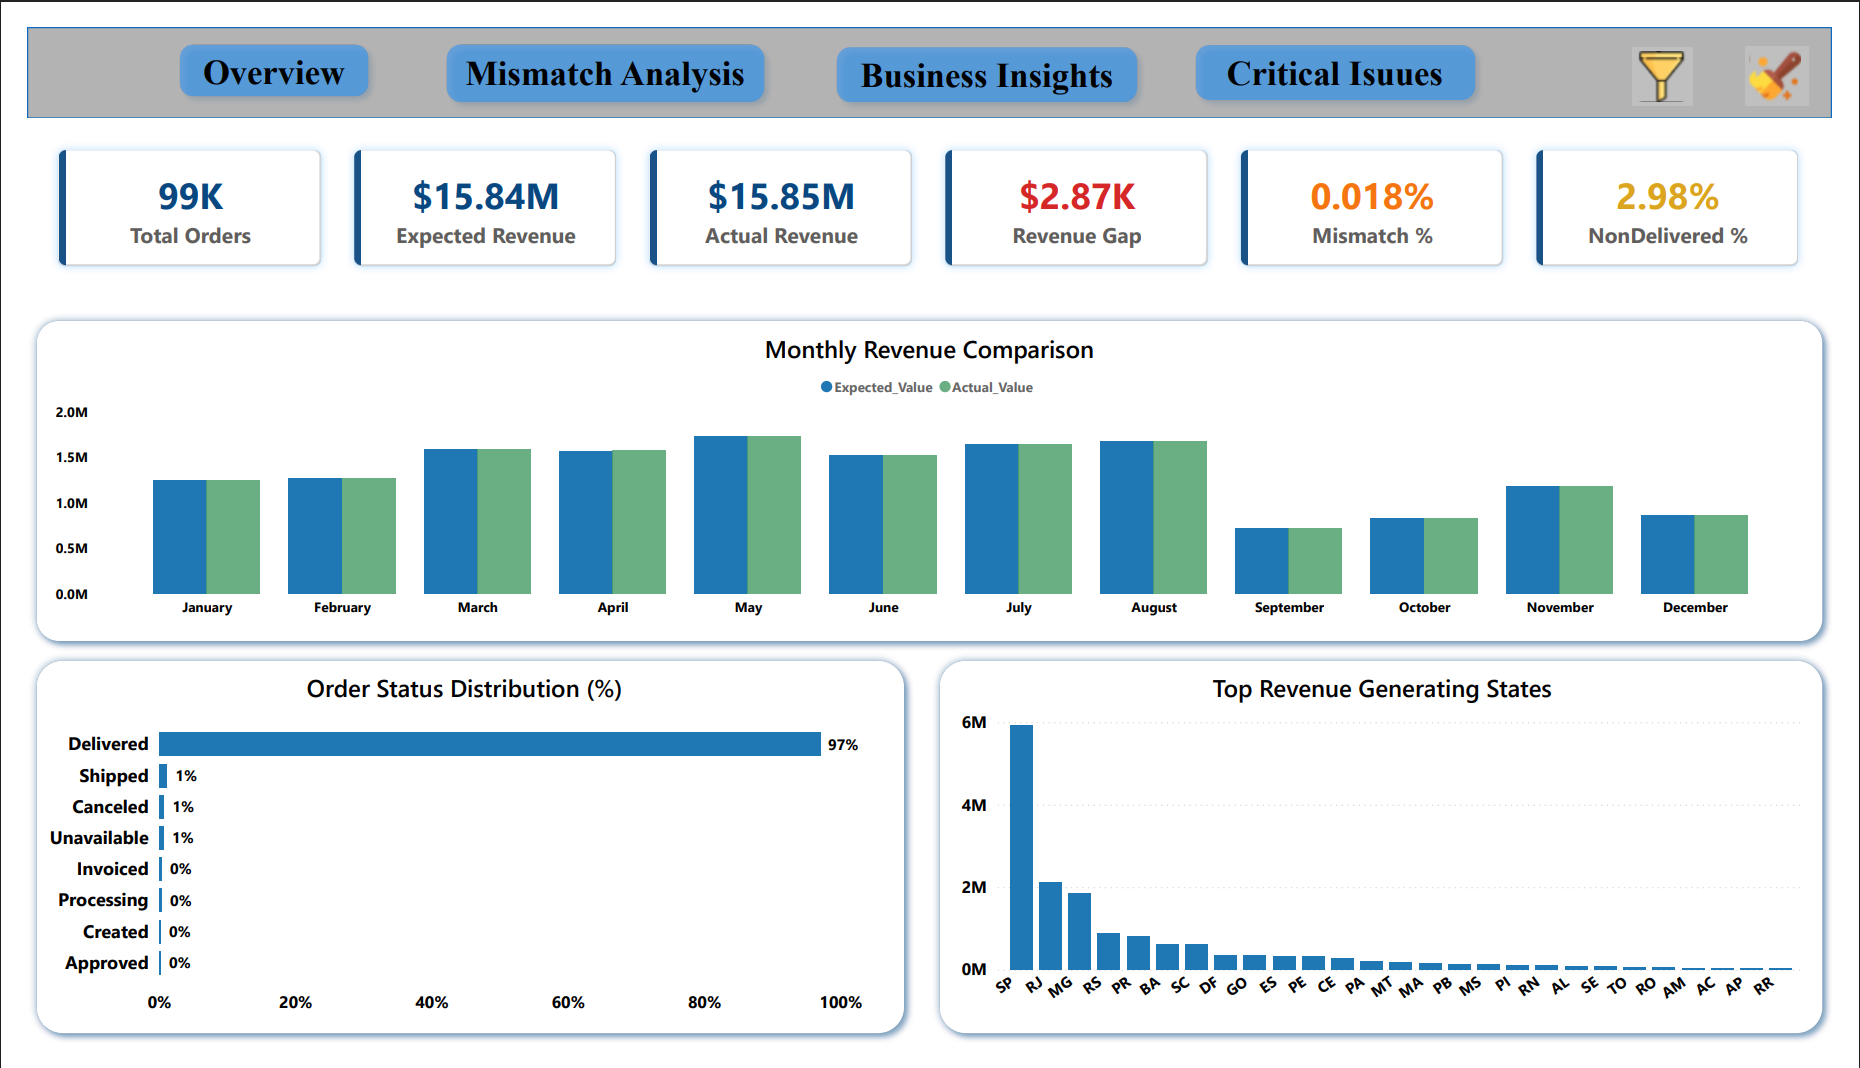

This screenshot's page, from the dashboard's own definition file:
{"tool":"powerbi","page":{"name":"Overview","canvas":[1600,900],"ordinal":1},"visuals":[{"type":"shape","box":[0,0,1600,80.9],"z":0},{"type":"actionButton","box":[127.1,7.2,184.3,62.6],"z":1000},{"type":"actionButton","box":[363.3,7.2,298.9,68],"z":2000},{"type":"actionButton","box":[708.7,8.9,284.6,66.2],"z":3000},{"type":"actionButton","box":[1027.3,7.2,264.9,66.2],"z":4000},{"type":"cardVisual","fields":{"Data":["measure.Total Orders","measure.Expected Revenue","measure.Actual Payment","measure.Mismatch Amount","measure.Mismatch %","measure.NonDelivered %"]},"box":[0,81.3,1599.7,157.3],"z":5000},{"type":"shape","box":[0,252.3,1600,300.7],"z":6000},{"type":"clusteredColumnChart","title":"Monthly Revenue Comparison","fields":{"Y":["Sum(vw_reconciliation.expected_value)","Sum(vw_reconciliation.actual_value)"],"Category":["orders.order_purchase_timestamp.Variation.Date Hierarchy.Month1"]},"box":[19.7,270.2,1560.6,261.3],"z":7000},{"type":"shape","box":[0,553,785.7,347.2],"z":8000},{"type":"shape","box":[800,553,800,347.2],"z":9000},{"type":"barChart","title":"Order Status Distribution (%)","fields":{"Category":["orders.Order Status Clean"],"Y":["measure.Order %"]},"box":[14.3,570.9,748.1,313.2],"z":10000},{"type":"clusteredColumnChart","title":"Top Revenue Generating States","fields":{"Category":["customers.customer_state"],"Y":["measure.Expected Revenue"]},"box":[823.3,570.9,757,311.4],"z":11000},{"type":"actionButton","title":"Funnel Open","box":[1422.5,18.1,54.2,52.4],"z":14000},{"type":"actionButton","box":[1523.3,17.4,55.8,52.3],"z":15000}]}

Visuals, with their boxes in screenshot pixels (x1, y1, x2, y2), scaled from the page's 1600x900 canvas onto the 1860x1068 screenshot:
shape: bbox=[0, 0, 1859, 96]
actionButton: bbox=[148, 9, 362, 83]
actionButton: bbox=[422, 9, 770, 89]
actionButton: bbox=[824, 11, 1155, 89]
actionButton: bbox=[1194, 9, 1502, 87]
cardVisual - measure.Total Orders x measure.Expected Revenue: bbox=[0, 96, 1859, 283]
shape: bbox=[0, 299, 1859, 656]
"Monthly Revenue Comparison" clusteredColumnChart: bbox=[23, 321, 1837, 631]
shape: bbox=[0, 656, 913, 1067]
shape: bbox=[930, 656, 1859, 1067]
"Order Status Distribution (%)" barChart: bbox=[17, 677, 886, 1049]
"Top Revenue Generating States" clusteredColumnChart: bbox=[957, 677, 1837, 1047]
"Funnel Open" actionButton: bbox=[1654, 21, 1717, 84]
actionButton: bbox=[1771, 21, 1836, 83]
